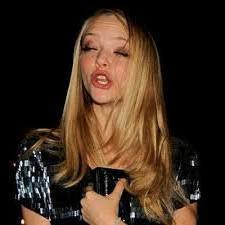Drunk: (84, 17, 133, 102)
